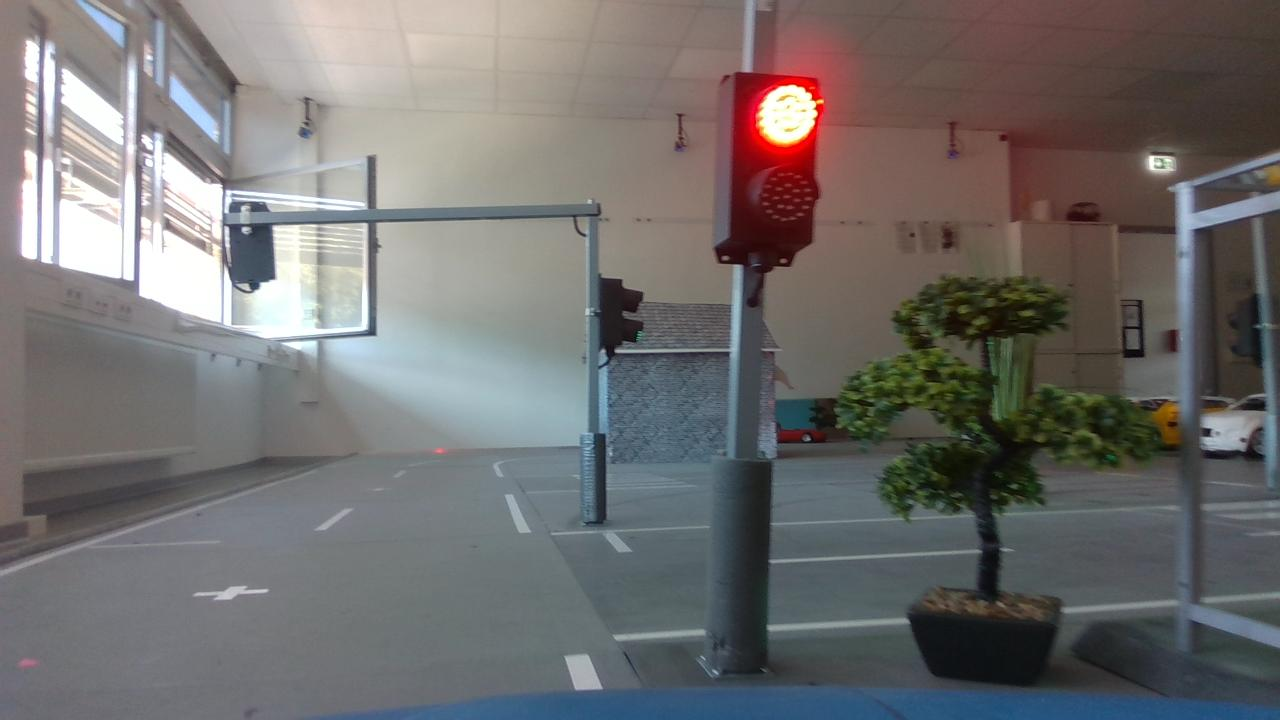traffic_light_red: (697, 57, 833, 283)
